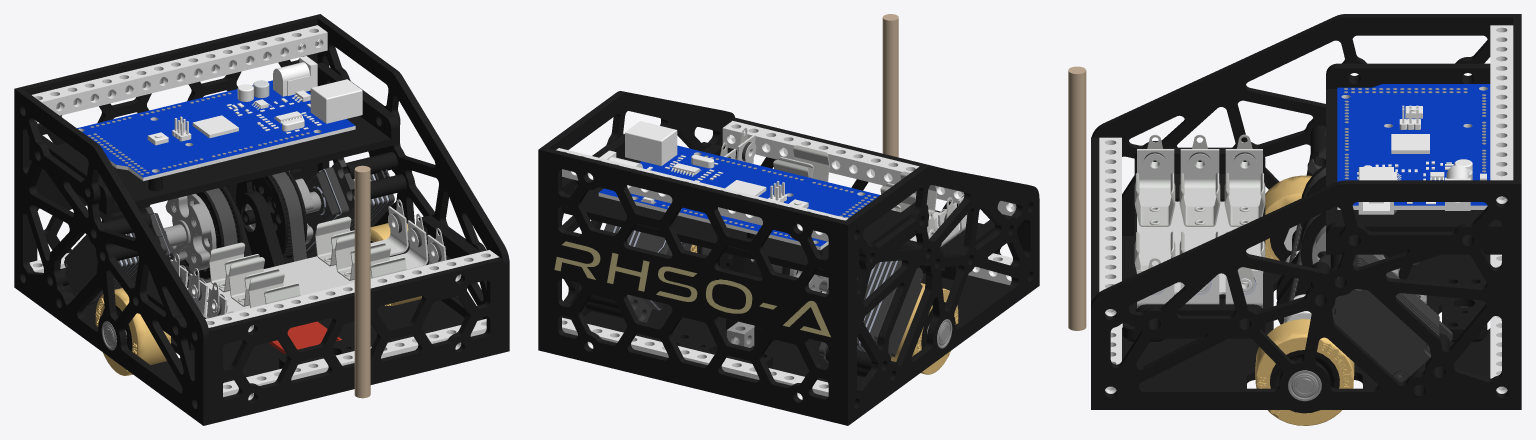
Rendered from belted.glb.
3 views of the same model, side by side, from view 1: azimuth 30°, elevation 25°; view 2: azimuth 150°, elevation 25°; view 3: azimuth 270°, elevation 25° (orthographic). The views are drawn at different scales.
Visible parts, largest first — view 1: anim_rtb_55_Frame_1, anim_rtb_46_Arduino_Mega_1, anim_rtb_47_193_3DModel_STEP_630548_1, anim_rtb_51_1106_0017_0136_2, anim_rtb_49_1_4_dowel_10cm_length_1, anim_rtb_32_1910_0025_0816_v1_Mirror_1__0, anim_rtb_53_1106_0017_0136_4, anim_rtb_0_DDJ_STDLOW2_M2H_CNC_1, anim_rtb_52_1106_0017_0136_3, anim_rtb_38_Wheel_T61P_14NBN_v2_Mirror_1, anim_rtb_6_3421_0014_0060_assembly_1__1, anim_rtb_18_Belt_2GT_150_6_60_20_32_985_1 (+8 smaller); view 2: anim_rtb_55_Frame_1, anim_rtb_46_Arduino_Mega_1, anim_rtb_53_1106_0017_0136_4, anim_rtb_47_193_3DModel_STEP_630548_1, anim_rtb_50_1106_0017_0136_1, anim_rtb_49_1_4_dowel_10cm_length_1, anim_rtb_51_1106_0017_0136_2, anim_rtb_23_DDJ_STDLOW2_B_CNC_Mirror_1, anim_rtb_0_DDJ_STDLOW2_M2H_CNC_1, anim_rtb_22_DDJ_STDLOW2_M2H_CNC_Mirror_1, anim_rtb_38_Wheel_T61P_14NBN_v2_Mirror_1, anim_rtb_52_1106_0017_0136_3 (+1 smaller); view 3: anim_rtb_55_Frame_1, anim_rtb_46_Arduino_Mega_1, anim_rtb_47_193_3DModel_STEP_630548_1, anim_rtb_49_1_4_dowel_10cm_length_1, anim_rtb_1_DDJ_STDLOW2_B_CNC_1, anim_rtb_17_Wheel_T61P_14NBN_1, anim_rtb_51_1106_0017_0136_2, anim_rtb_53_1106_0017_0136_4, anim_rtb_38_Wheel_T61P_14NBN_v2_Mirror_1, anim_rtb_0_DDJ_STDLOW2_M2H_CNC_1, anim_rtb_50_1106_0017_0136_1, anim_rtb_6_3421_0014_0060_assembly_1__0 (+4 smaller).
Part boxes in pixels (x1,y1,x2,y2): anim_rtb_55_Frame_1: (14, 14, 509, 425); anim_rtb_46_Arduino_Mega_1: (77, 56, 362, 181); anim_rtb_47_193_3DModel_STEP_630548_1: (170, 199, 446, 318); anim_rtb_51_1106_0017_0136_2: (32, 25, 327, 121); anim_rtb_49_1_4_dowel_10cm_length_1: (354, 165, 370, 398); anim_rtb_32_1910_0025_0816_v1_Mirror_1__0: (163, 193, 216, 272); anim_rtb_53_1106_0017_0136_4: (205, 250, 498, 332); anim_rtb_0_DDJ_STDLOW2_M2H_CNC_1: (305, 159, 392, 254); anim_rtb_52_1106_0017_0136_3: (223, 318, 486, 400); anim_rtb_38_Wheel_T61P_14NBN_v2_Mirror_1: (95, 288, 171, 375); anim_rtb_6_3421_0014_0060_assembly_1__1: (236, 175, 292, 257); anim_rtb_18_Belt_2GT_150_6_60_20_32_985_1: (270, 172, 306, 261); anim_rtb_55_Frame_1: (538, 91, 1039, 425); anim_rtb_46_Arduino_Mega_1: (598, 121, 879, 250); anim_rtb_53_1106_0017_0136_4: (722, 120, 1016, 215); anim_rtb_47_193_3DModel_STEP_630548_1: (720, 127, 967, 246); anim_rtb_50_1106_0017_0136_1: (562, 317, 828, 399); anim_rtb_49_1_4_dowel_10cm_length_1: (882, 14, 898, 186); anim_rtb_51_1106_0017_0136_2: (556, 148, 847, 241); anim_rtb_23_DDJ_STDLOW2_B_CNC_Mirror_1: (872, 261, 923, 357); anim_rtb_0_DDJ_STDLOW2_M2H_CNC_1: (609, 225, 691, 322); anim_rtb_22_DDJ_STDLOW2_M2H_CNC_Mirror_1: (818, 260, 901, 363); anim_rtb_38_Wheel_T61P_14NBN_v2_Mirror_1: (891, 283, 958, 374); anim_rtb_52_1106_0017_0136_3: (968, 253, 1012, 285); anim_rtb_55_Frame_1: (1091, 14, 1521, 409); anim_rtb_46_Arduino_Mega_1: (1337, 84, 1490, 214); anim_rtb_47_193_3DModel_STEP_630548_1: (1134, 134, 1265, 307); anim_rtb_49_1_4_dowel_10cm_length_1: (1068, 66, 1086, 330); anim_rtb_1_DDJ_STDLOW2_B_CNC_1: (1331, 289, 1430, 382); anim_rtb_17_Wheel_T61P_14NBN_1: (1255, 319, 1354, 425); anim_rtb_51_1106_0017_0136_2: (1490, 25, 1513, 203); anim_rtb_53_1106_0017_0136_4: (1099, 137, 1121, 316); anim_rtb_38_Wheel_T61P_14NBN_v2_Mirror_1: (1265, 175, 1311, 261); anim_rtb_0_DDJ_STDLOW2_M2H_CNC_1: (1311, 254, 1452, 375); anim_rtb_50_1106_0017_0136_1: (1490, 254, 1507, 393); anim_rtb_6_3421_0014_0060_assembly_1__0: (1300, 211, 1412, 282).
Size of the model in its own units: 0.1424 by 0.1071 by 0.16.
